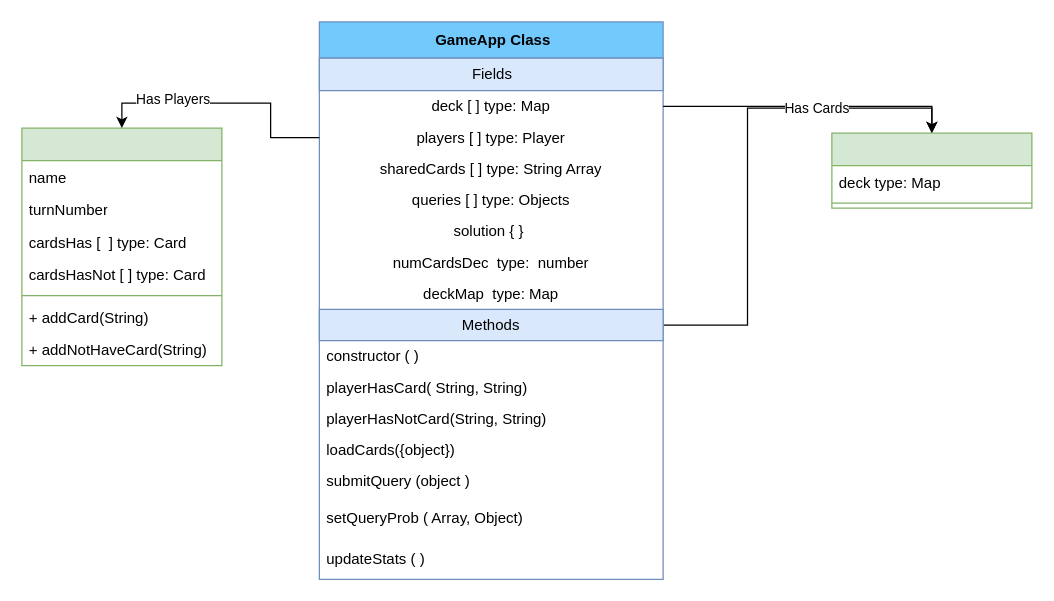
Some shapes in this 1054 by 601 pixel diagram are drawn without their labels. Each missing label, with the box of its shape:
Deck Class: (831, 132, 1032, 208)
Player Class: (21, 127, 222, 366)
